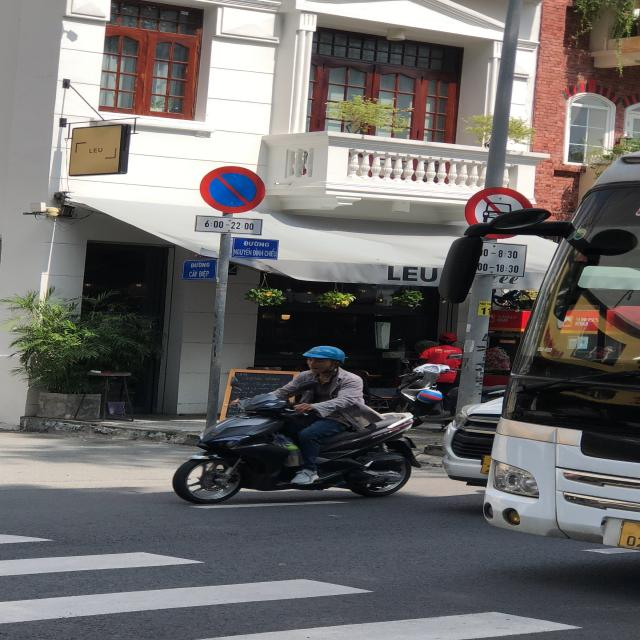Bien bao cam do xe: (185, 159, 282, 216)
